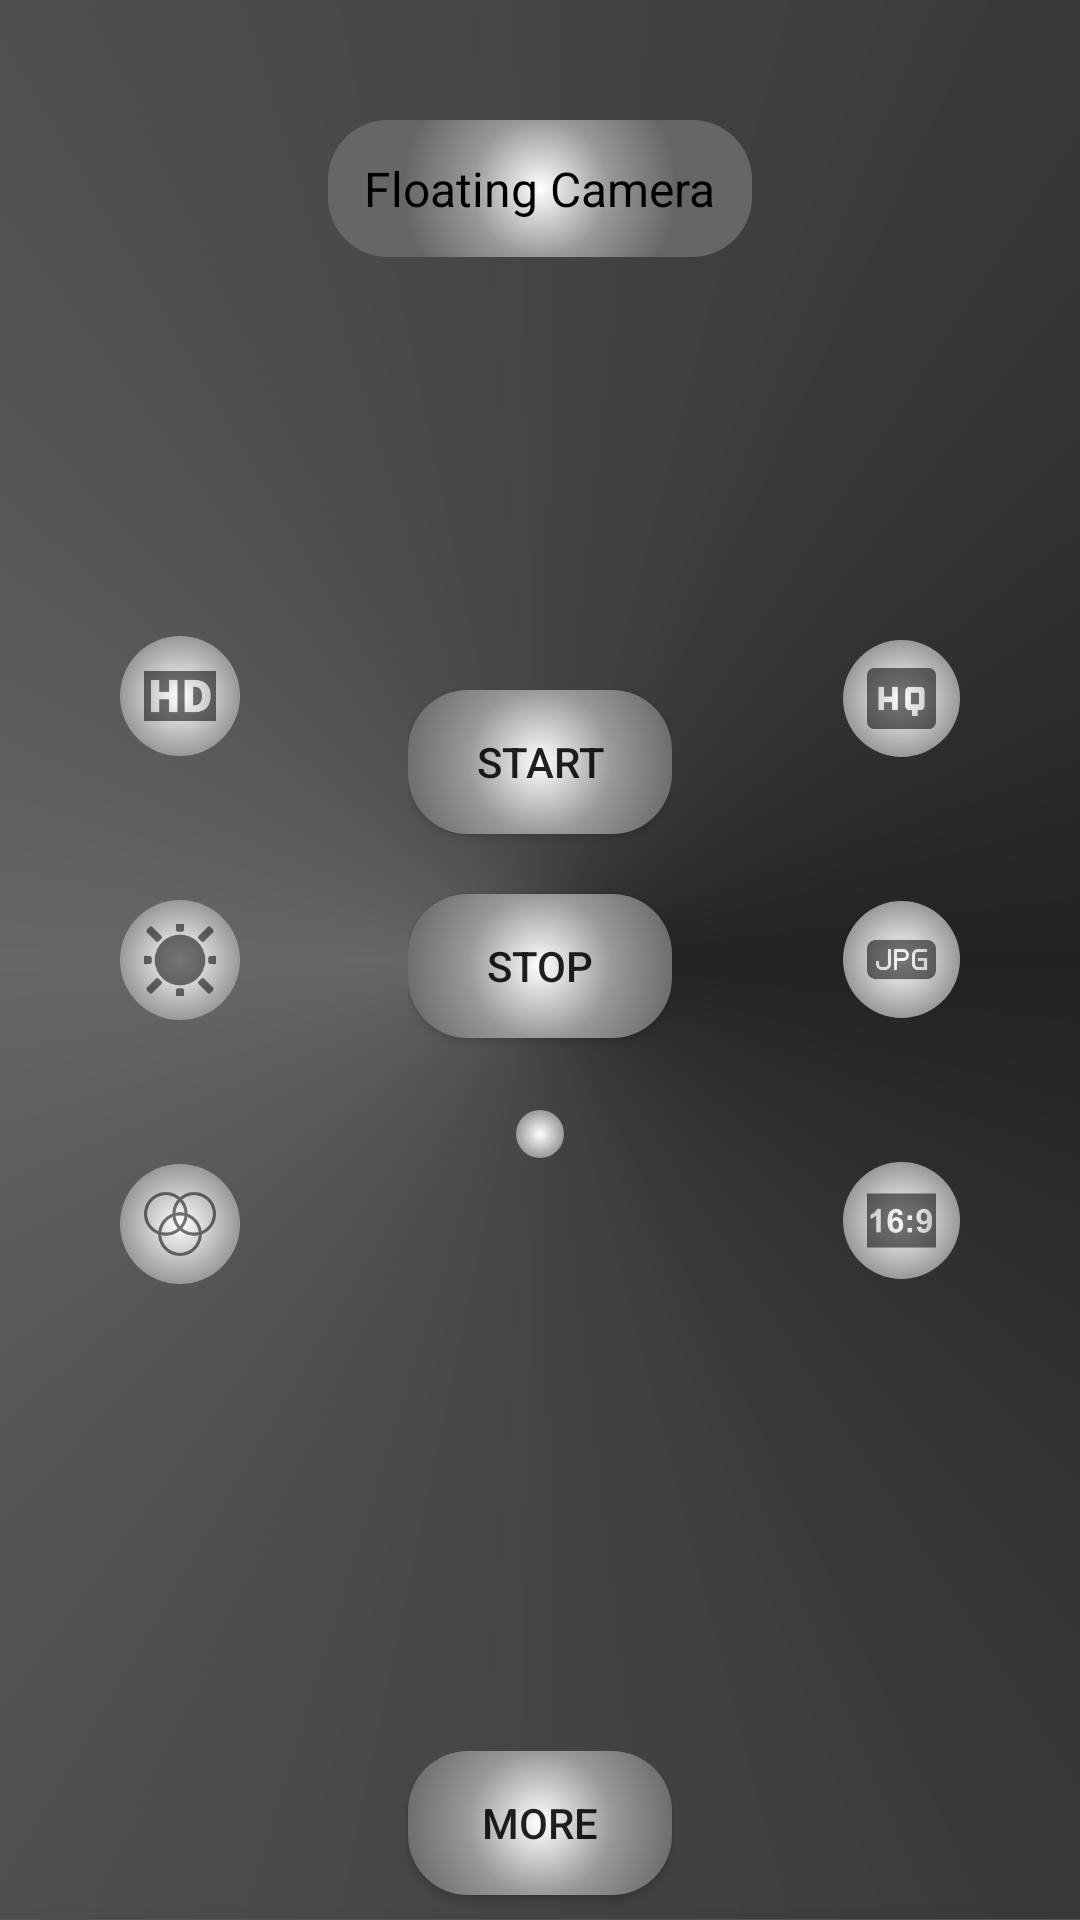

Named icons in this screenshot (1080 x 1920) and their bounding boxes, (x1, y1, x2, y2):
daylight balance: (120, 900, 240, 1020)
filters: (120, 1164, 240, 1284)
picture quality hq: (843, 640, 960, 757)
picture size: (843, 1162, 960, 1279)
video size: (120, 636, 240, 756)
